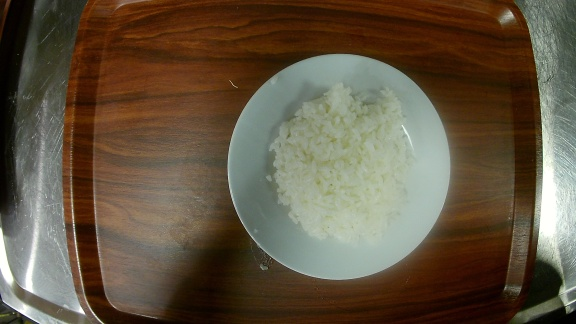pilav: (227, 52, 453, 278)
